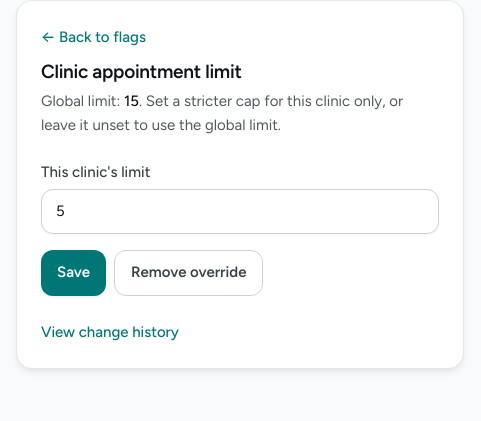
ClinicLimitOverrideForm › renders past changes in the history view
Expected: the number field showing "5" is shown, [41,189,439,234]
Click the button "View change history": (110, 333) [41,321,179,344]
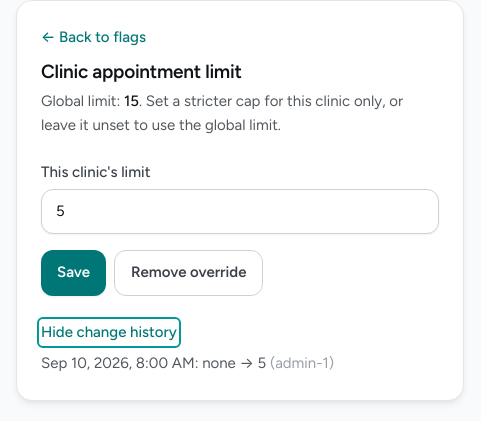
Result: the list item "Sep 10, 2026, 8:00 AM: none → 5 (admin-1)" is shown at [41,354,334,372]
